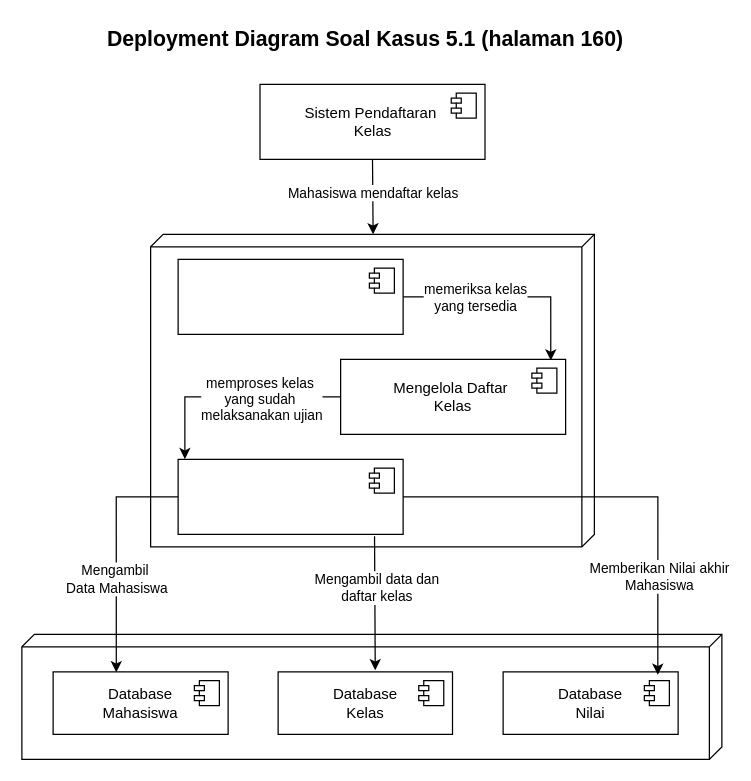
The diagram is 751 pixels wide and 781 high, and some of its shapes have lost their labels. The shapes that lost their labels are listed below. From the top down, each one's centre as x and y in pixels, then its label:
[290,296]: Mengelola Pendaftaran Mahasiswa
[290,496]: Mengelola Nilai
